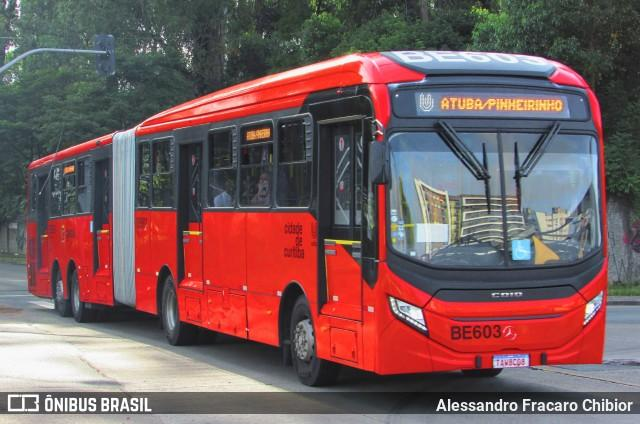ATUBA PINHEIRINHO: (437, 94, 567, 117)
